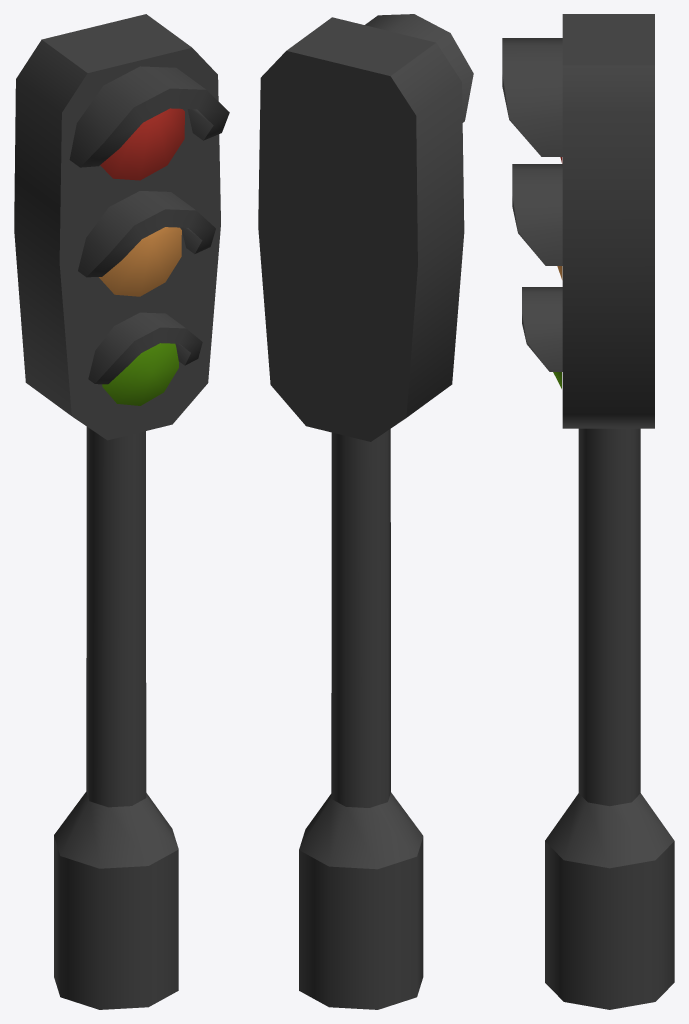
File: traflight_v2.fbx
3 renders of one model, left to right at view 1: azimuth 30°, elevation 25°; view 2: azimuth 150°, elevation 25°; view 3: azimuth 270°, elevation 25°, orthographic.
Visible parts, largest first — view 1: traflight_v2; view 2: traflight_v2; view 3: traflight_v2.
Boxes of the visible parts, x1,y1,x2,y2 form: traflight_v2: (14,14,229,1009); traflight_v2: (258,14,473,1009); traflight_v2: (502,14,674,1009).
Size of the model in its own units: 47.92 by 267 by 44.14.
